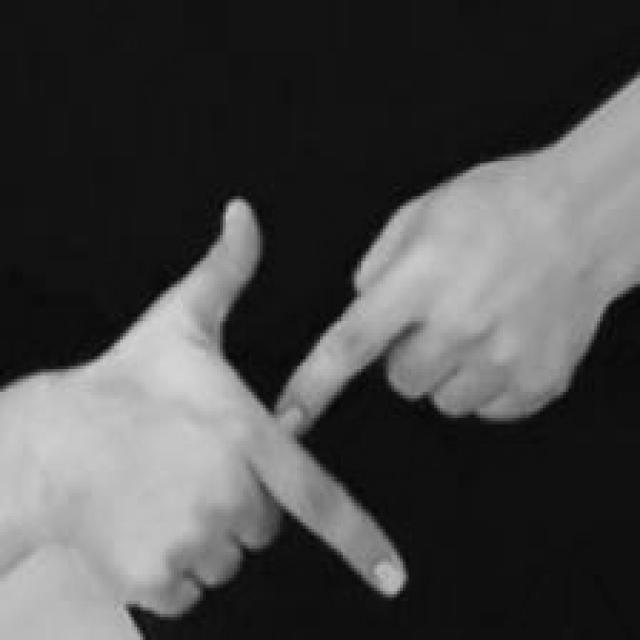F: (90, 152, 595, 620)
